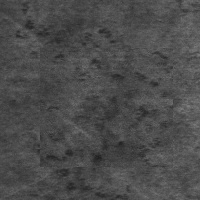rolled-in_scale: (40, 48, 173, 167), (38, 71, 132, 197), (16, 11, 125, 116)
